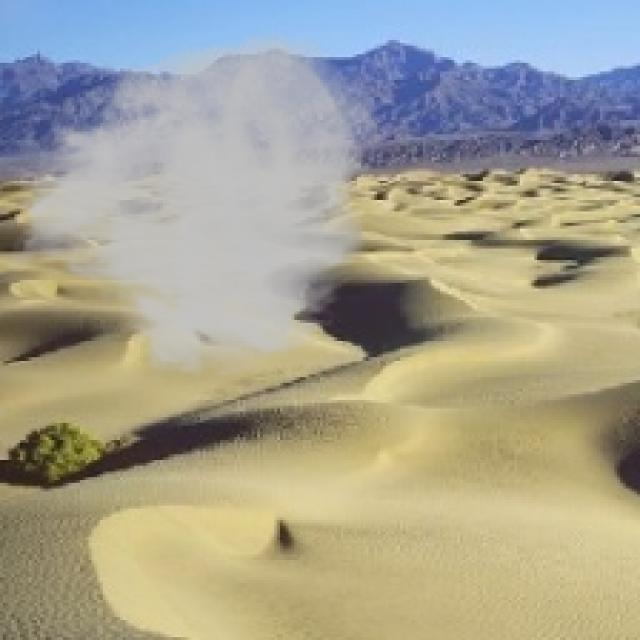smoke: (0, 29, 386, 380)
